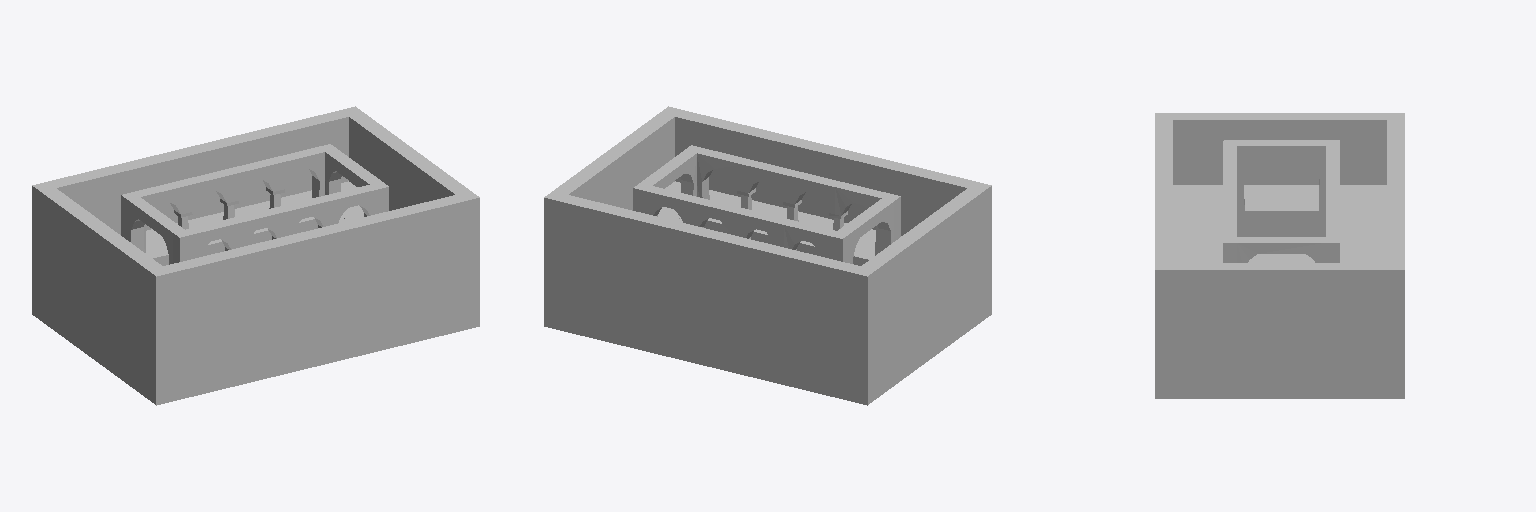
Rendered from sponza.obj.
The picture shows the model from 3 angles: view 1: azimuth 30°, elevation 25°; view 2: azimuth 150°, elevation 25°; view 3: azimuth 270°, elevation 25°; orthographic projection.
Visible parts, largest first — view 1: Plane; view 2: Plane; view 3: Plane.
Boxes of the visible parts, x1,y1,x2,y2 form: Plane: [32, 106, 479, 405]; Plane: [544, 106, 991, 405]; Plane: [1155, 113, 1404, 398].
Size of the model in its own units: 21 by 8 by 14.